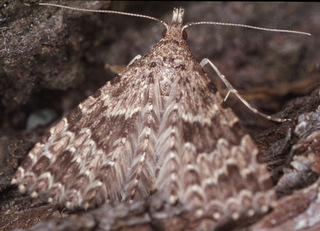Alucitidae: (6, 2, 313, 223)
moth: (4, 1, 311, 221)
